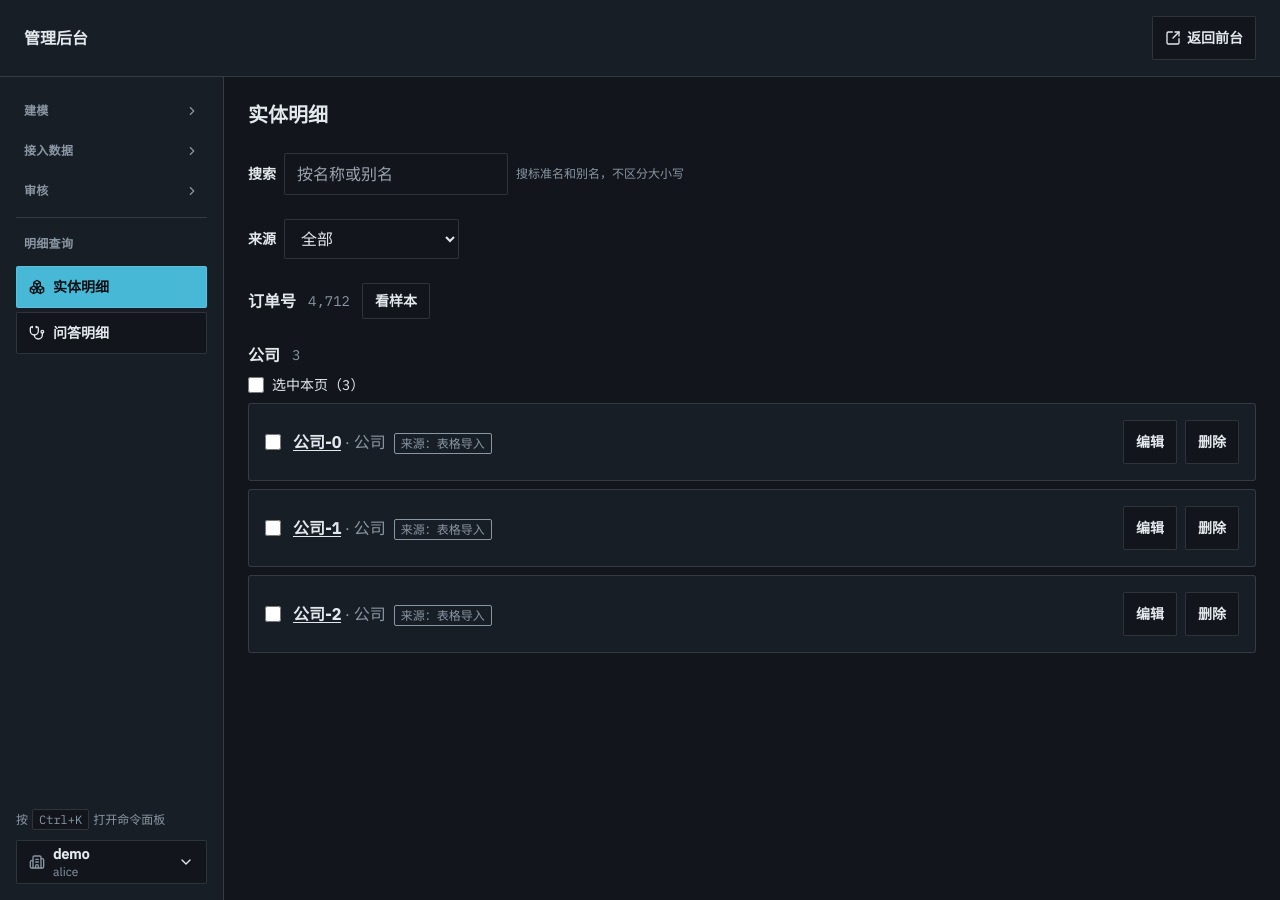
结果 › 部分失败时逐条列出没删掉的那几条和原因，不是只说一句「删除完成」
The image size is (1280, 900).
Expected: the element "订单号 4,712 看样本" is shown, [248,283,430,319]
Type "命中" into the search field labelled "搜索" at (396, 174), box [284,153,508,195]
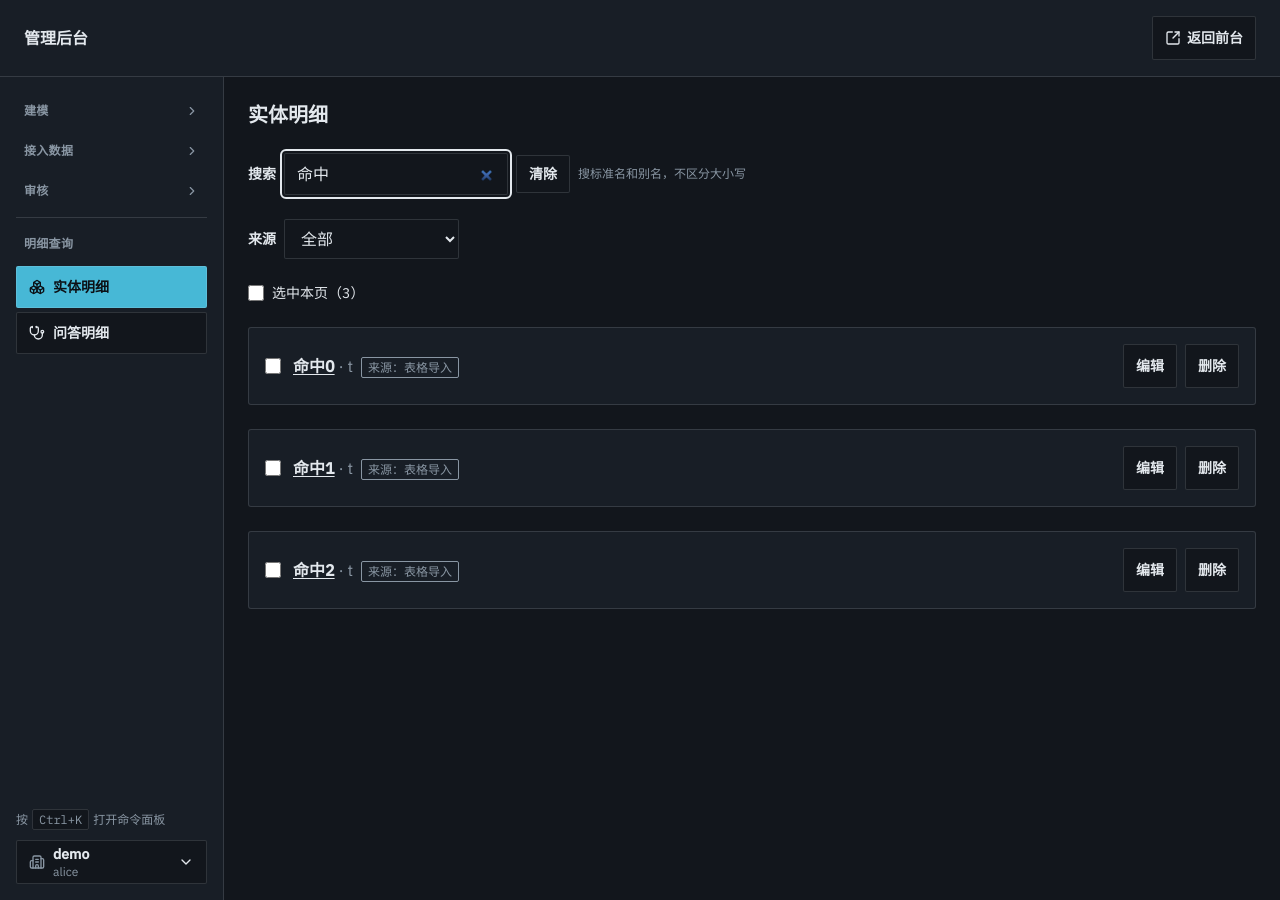
Expected: the link "命中0" is shown, [293,356,335,376]
Click the checkbox labelled "选中本页（3）" at (256, 293), box [248,285,264,301]
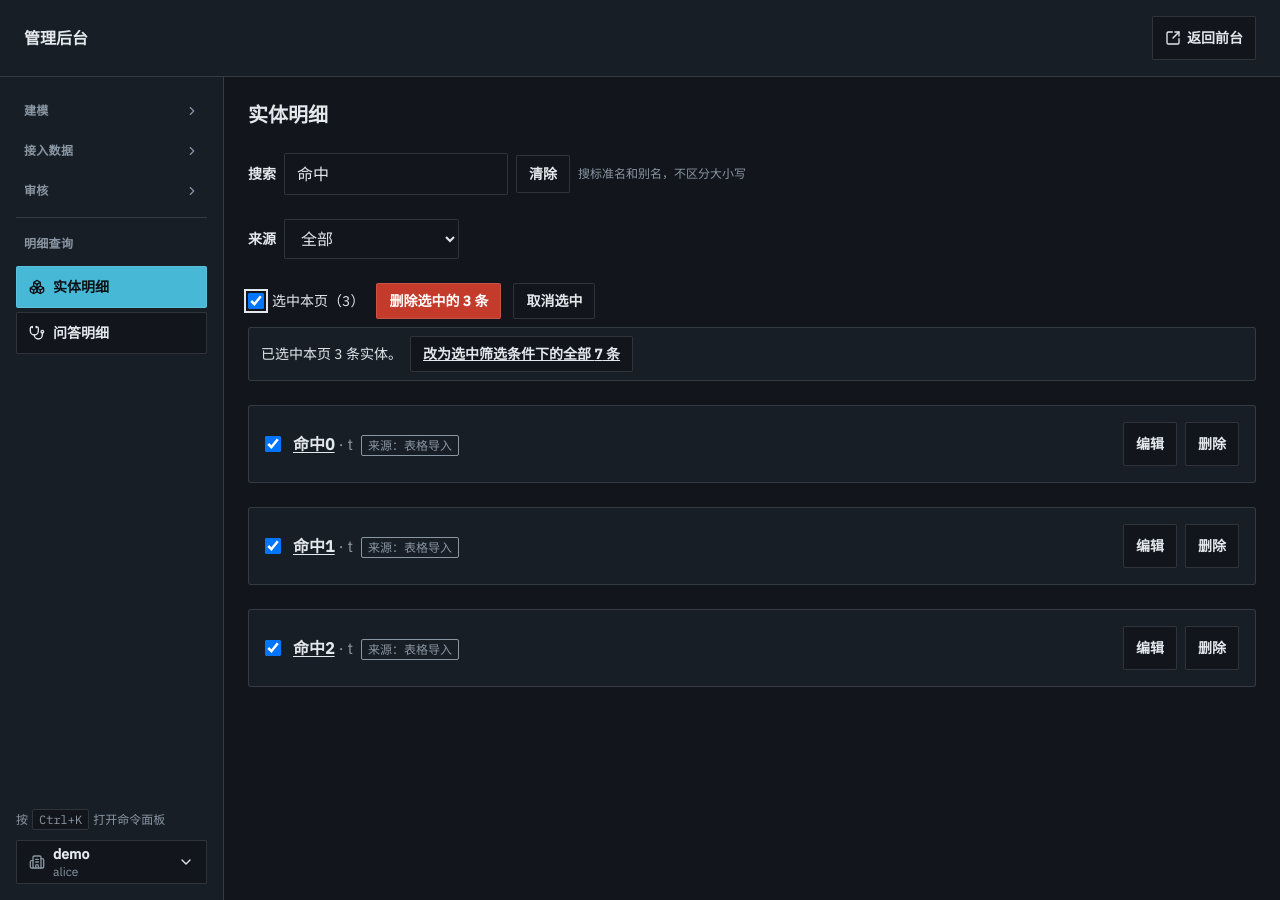
Click the button "删除选中的 3 条" at (439, 301), box [376,283,501,319]
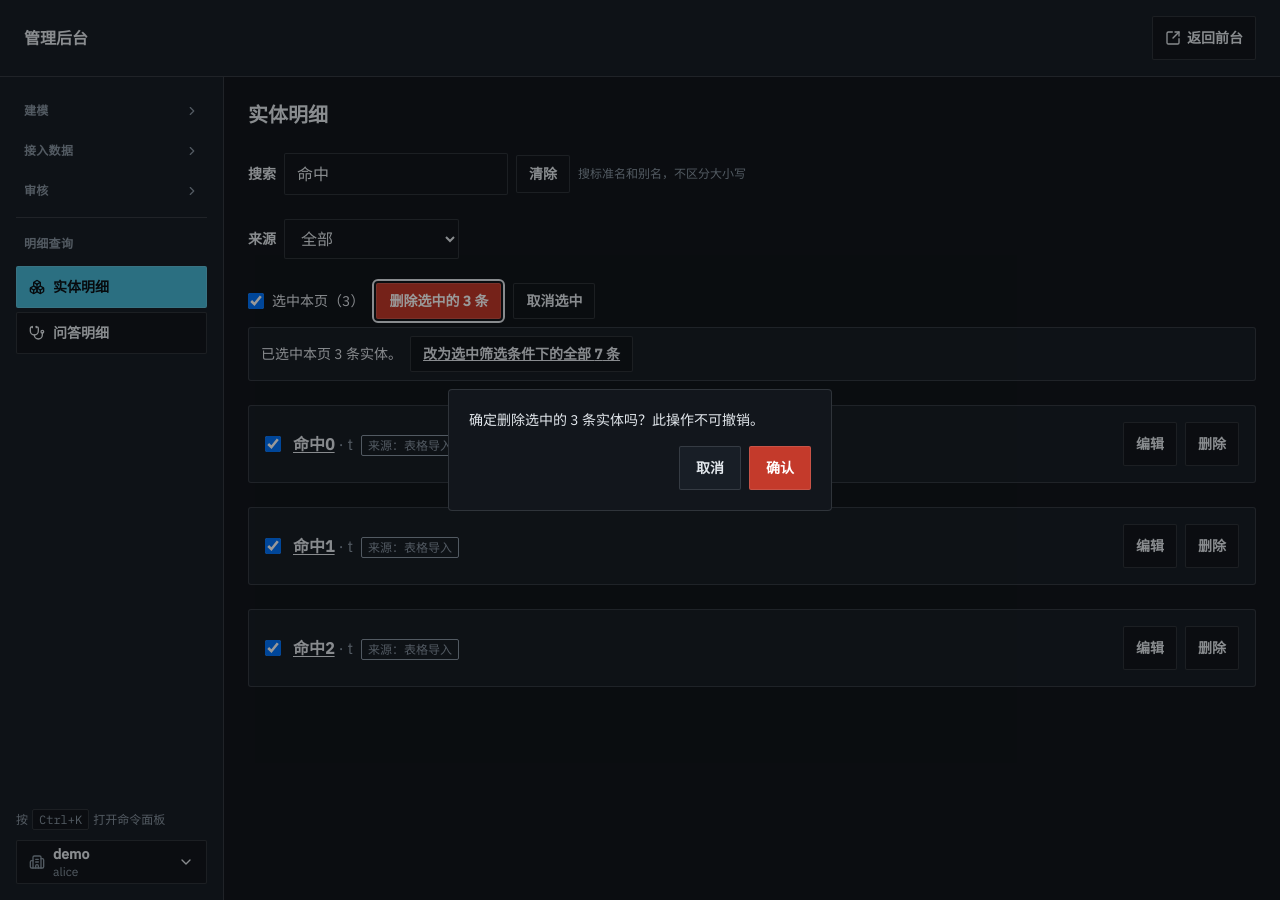
Click the button "确认" at (780, 468), box [749,446,811,490]
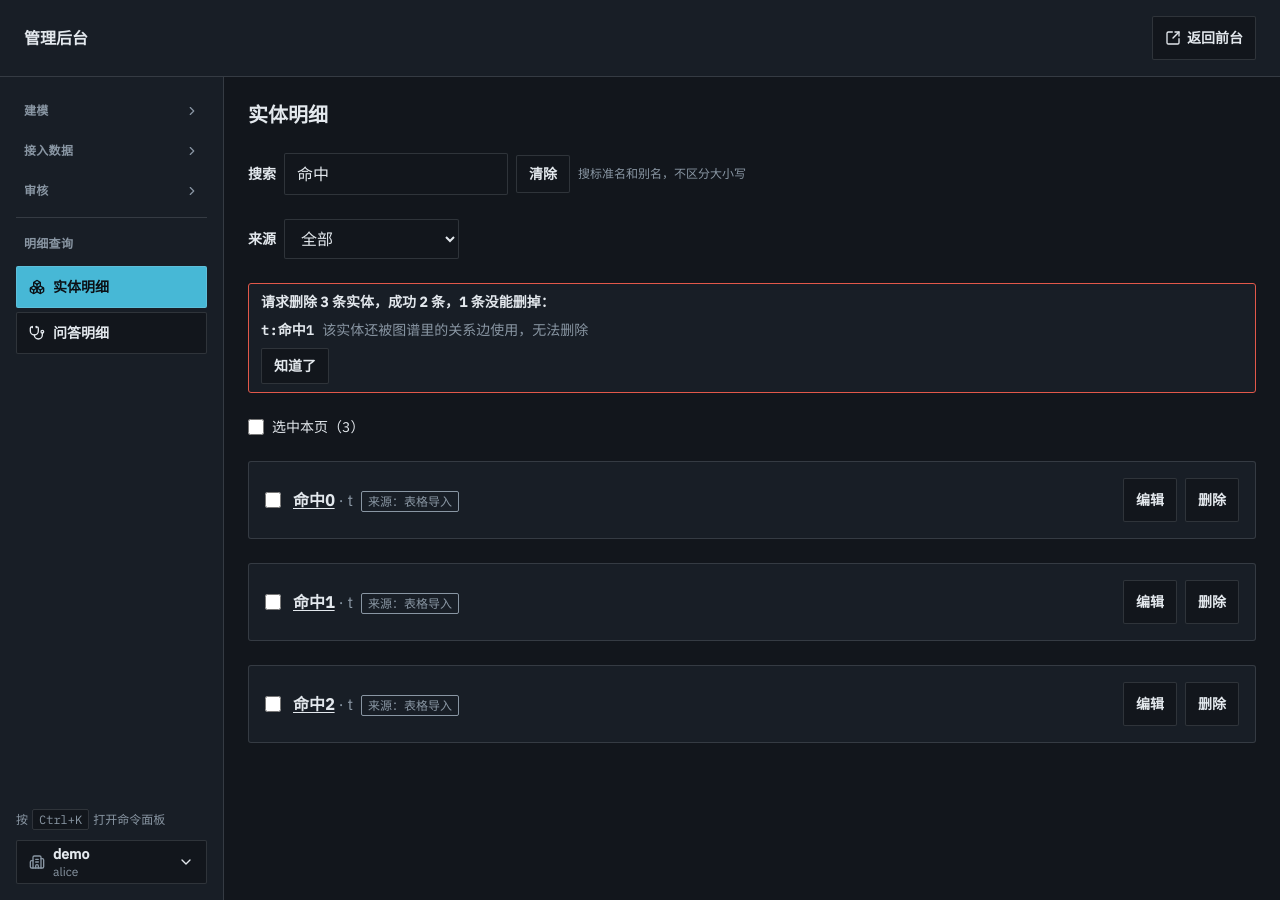
Expected: the message with test id "bulk-delete-outcome" shows "成功 2 条", [261,293,555,311]
Expected: the message with test id "bulk-delete-outcome" shows "t:命中1", [261,321,314,339]
Expected: the message with test id "bulk-delete-outcome" shows "关系边", [248,283,1256,393]
